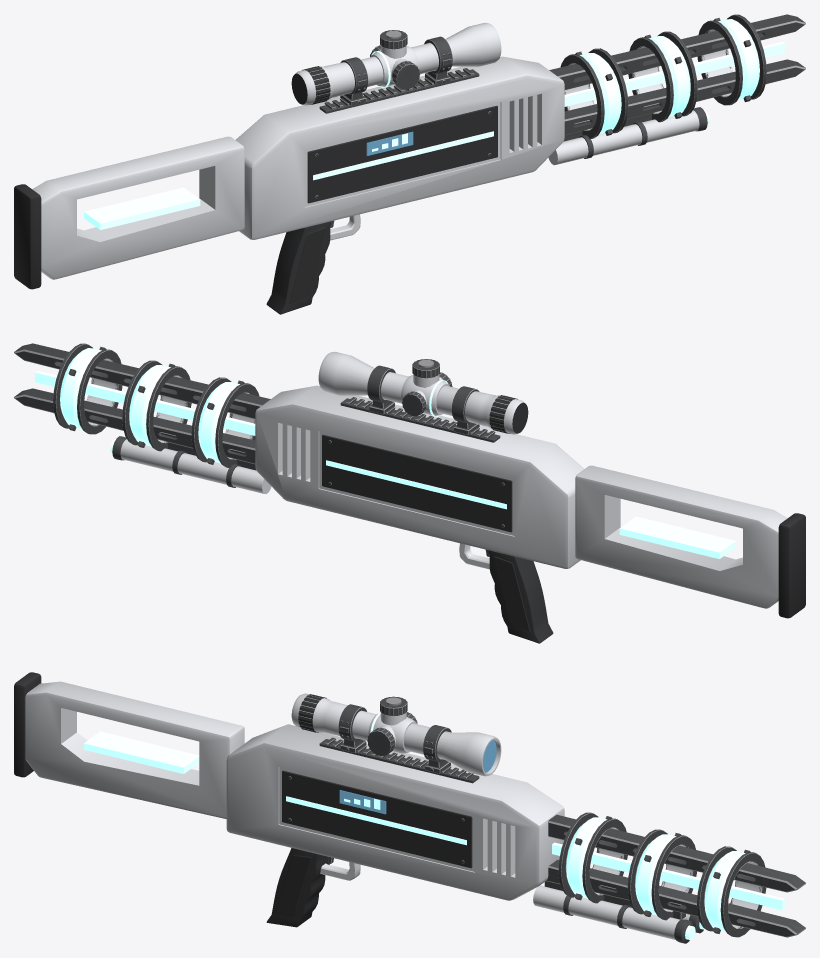
Rendered from w_rail.glb.
3 views of the same model, one above another, from view 1: azimuth 30°, elevation 25°; view 2: azimuth 150°, elevation 25°; view 3: azimuth 330°, elevation 25° (orthographic).
Parts seen in each view (by area): view 1: W_rail; view 2: W_rail; view 3: W_rail.
Part boxes in pixels (left/top/right/bottom): W_rail: left=14, top=14, right=805, bottom=314; W_rail: left=14, top=343, right=805, bottom=643; W_rail: left=14, top=672, right=805, bottom=943.
Size of the model in its own units: 1.02 by 0.3066 by 0.098.
Materials: 7 (3 with a texture image).
